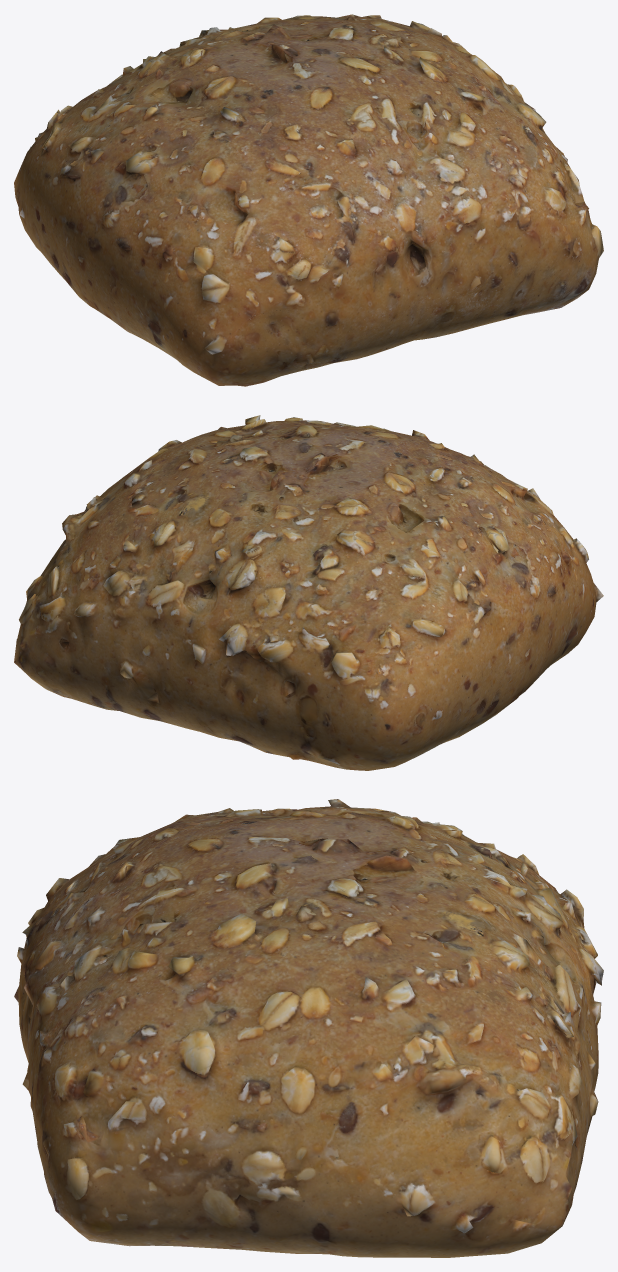
The model's file is 3DBread010_SQ-1K-JPG.obj.
The picture shows the model from 3 angles, top to bottom: view 1: azimuth 30°, elevation 25°; view 2: azimuth 150°, elevation 25°; view 3: azimuth 270°, elevation 25°; orthographic projection. The views are drawn at different scales.
Visible parts, largest first — view 1: 3DBread010_SQ-1K-JPG; view 2: 3DBread010_SQ-1K-JPG; view 3: 3DBread010_SQ-1K-JPG.
Part boxes in pixels (x1,y1,x2,y2): 3DBread010_SQ-1K-JPG: (14, 14, 603, 386); 3DBread010_SQ-1K-JPG: (14, 415, 603, 770); 3DBread010_SQ-1K-JPG: (14, 799, 603, 1257).
Size of the model in its own units: 0.0736 by 0.0363 by 0.0645.
Materials: 1 (1 with a texture image).
